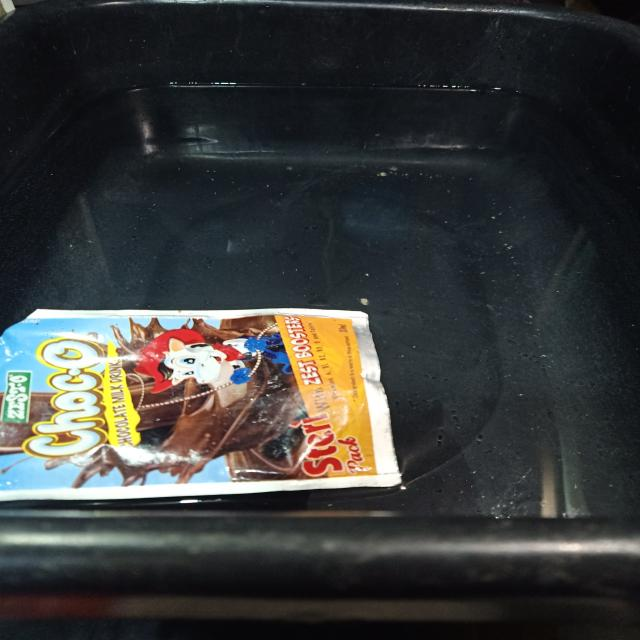Plastic Pouch: (0, 308, 401, 501)
